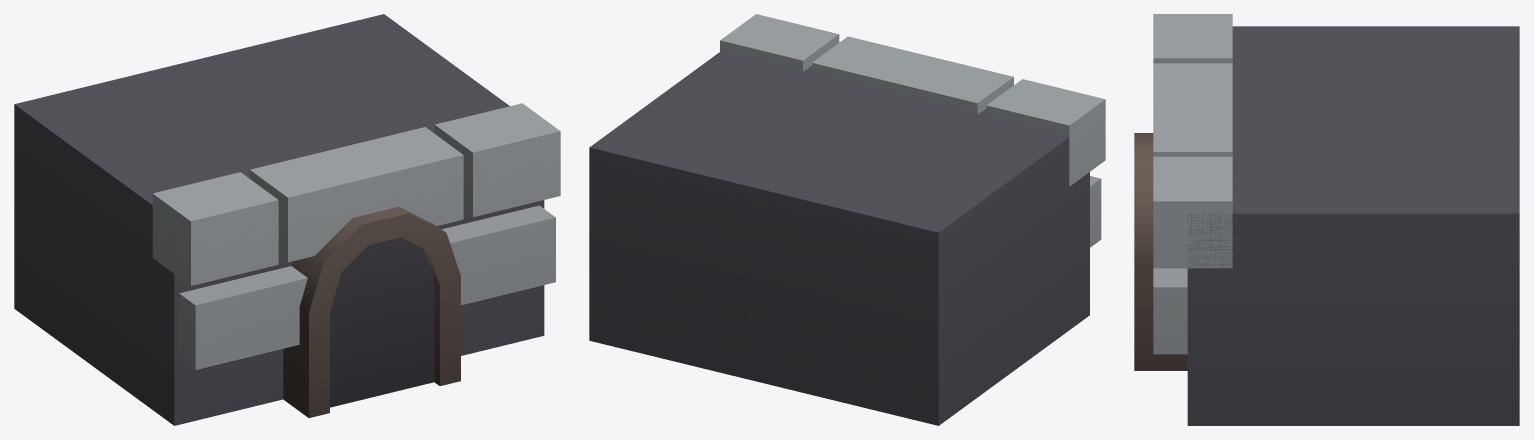
Rendered from SM_WallDoor_Brick.fbx.
3 views of the same model, side by side, from view 1: azimuth 30°, elevation 25°; view 2: azimuth 150°, elevation 25°; view 3: azimuth 270°, elevation 25° (orthographic). The views are drawn at different scales.
Parts seen in each view (by area): view 1: WallDoor_Brick; view 2: WallDoor_Brick; view 3: WallDoor_Brick.
Boxes of the visible parts, x1,y1,x2,y2 form: WallDoor_Brick: (14,14,560,425); WallDoor_Brick: (589,14,1105,425); WallDoor_Brick: (1134,14,1519,425).
Size of the model in its own units: 200 by 112 by 174.
